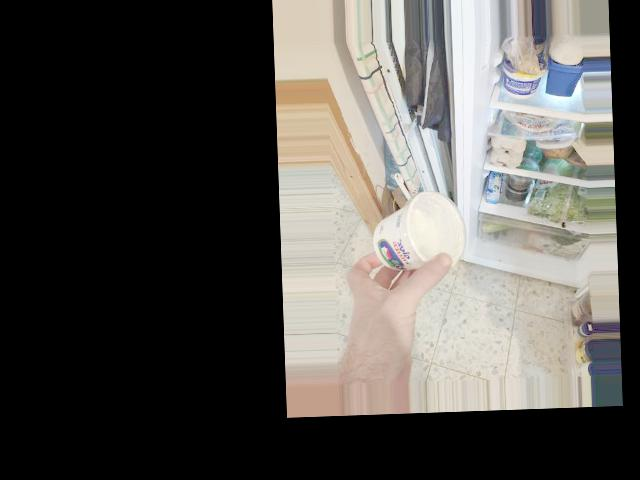cotage: (372, 196, 464, 274)
